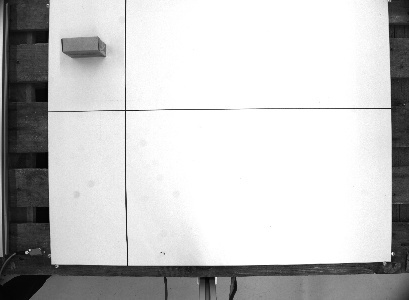b1: (59, 33, 109, 60)
